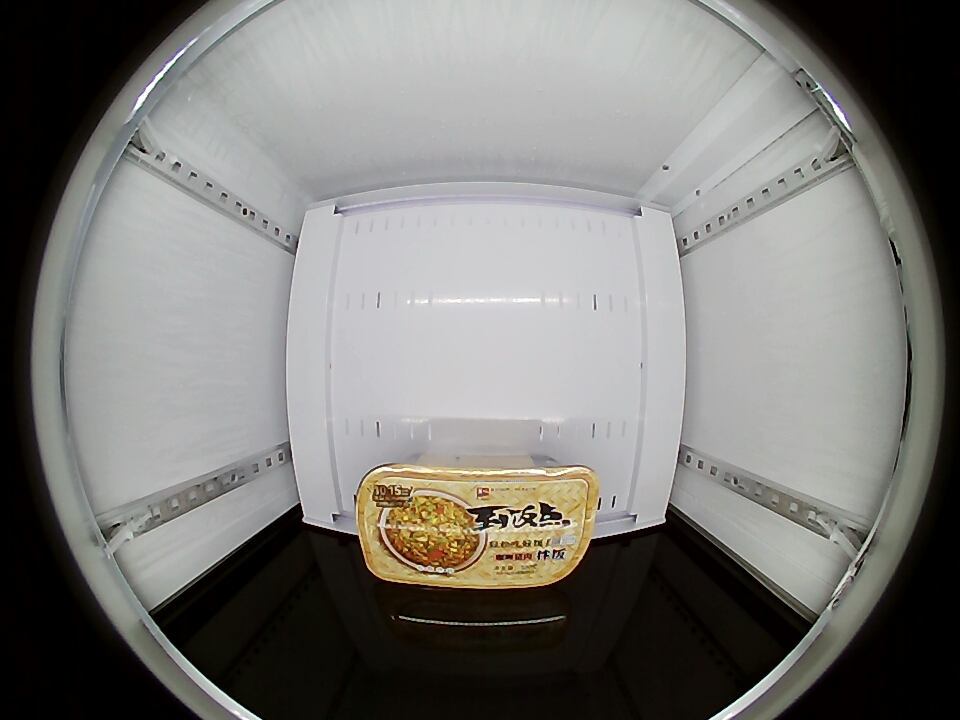daofandian3: (356, 459, 600, 590)
